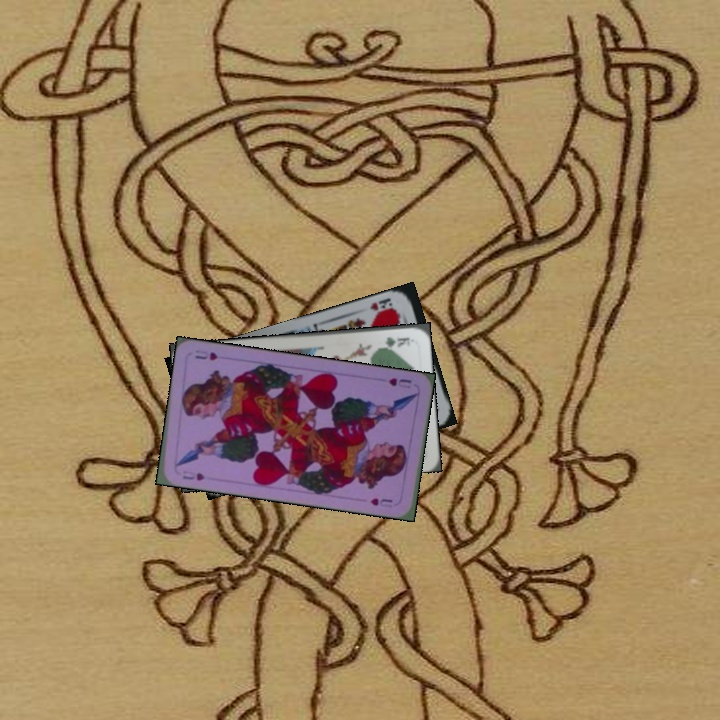GK: (381, 333, 412, 349)
HK: (366, 294, 395, 313)
HU: (384, 374, 414, 391), (178, 469, 207, 483)
